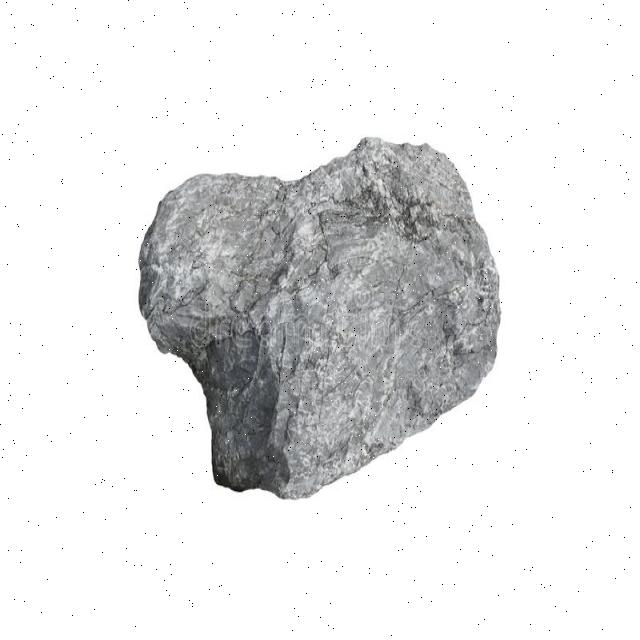Sedimentary: (117, 134, 509, 508)
